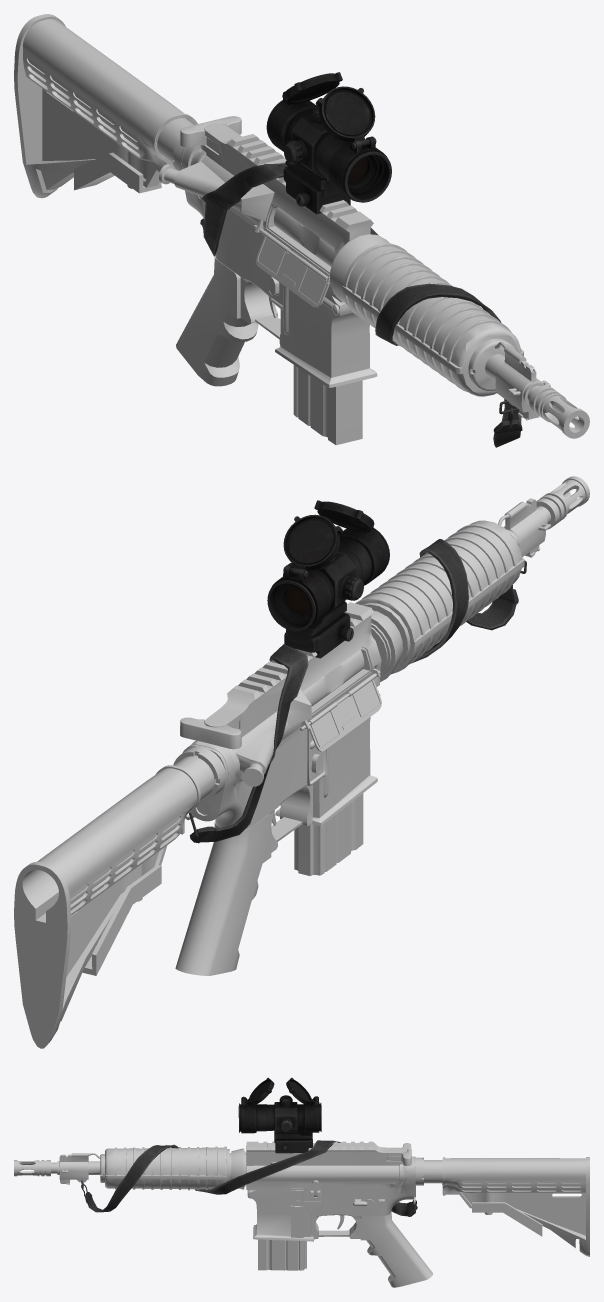
File: classicm4.obj
3 renders of one model, top to bottom at view 1: azimuth 30°, elevation 25°; view 2: azimuth 150°, elevation 25°; view 3: azimuth 270°, elevation 25°, orthographic. The views are drawn at different scales.
Visible parts, largest first — view 1: Receiver, Stock, Scope, Sling, Magazine, BoltCarrier, ChargingHandle; view 2: Receiver, Stock, Scope, Sling, Magazine, ChargingHandle, BoltCarrier; view 3: Receiver, Stock, Scope, Sling, Magazine.
Part boxes in pixels (left/top/right/bottom): Receiver: left=157, top=118, right=589, bottom=438; Stock: left=14, top=14, right=197, bottom=198; Scope: left=266, top=72, right=391, bottom=214; Sling: left=200, top=163, right=522, bottom=447; Magazine: left=293, top=365, right=362, bottom=445; BoltCarrier: left=273, top=207, right=335, bottom=266; ChargingHandle: left=180, top=116, right=241, bottom=153; Receiver: left=173, top=476, right=589, bottom=975; Stock: left=14, top=765, right=200, bottom=1048; Scope: left=267, top=500, right=389, bottom=658; Sling: left=189, top=539, right=526, bottom=843; Magazine: left=294, top=793, right=363, bottom=875; ChargingHandle: left=180, top=717, right=241, bottom=749; BoltCarrier: left=303, top=650, right=364, bottom=706; Receiver: left=14, top=1141, right=442, bottom=1287; Stock: left=442, top=1157, right=589, bottom=1256; Scope: left=238, top=1077, right=321, bottom=1153; Sling: left=81, top=1140, right=417, bottom=1216; Magazine: left=258, top=1239, right=306, bottom=1270.
Size of the model in its own units: 0.0652 by 0.2612 by 0.6679.
